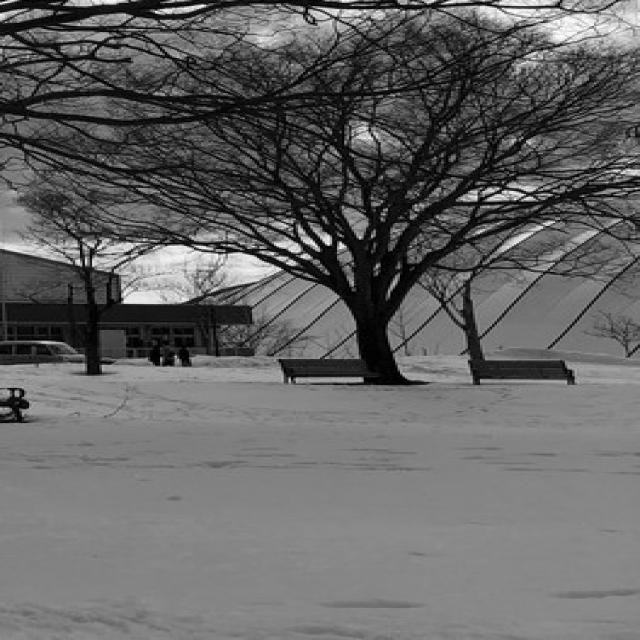zelkova: (0, 0, 640, 385)
